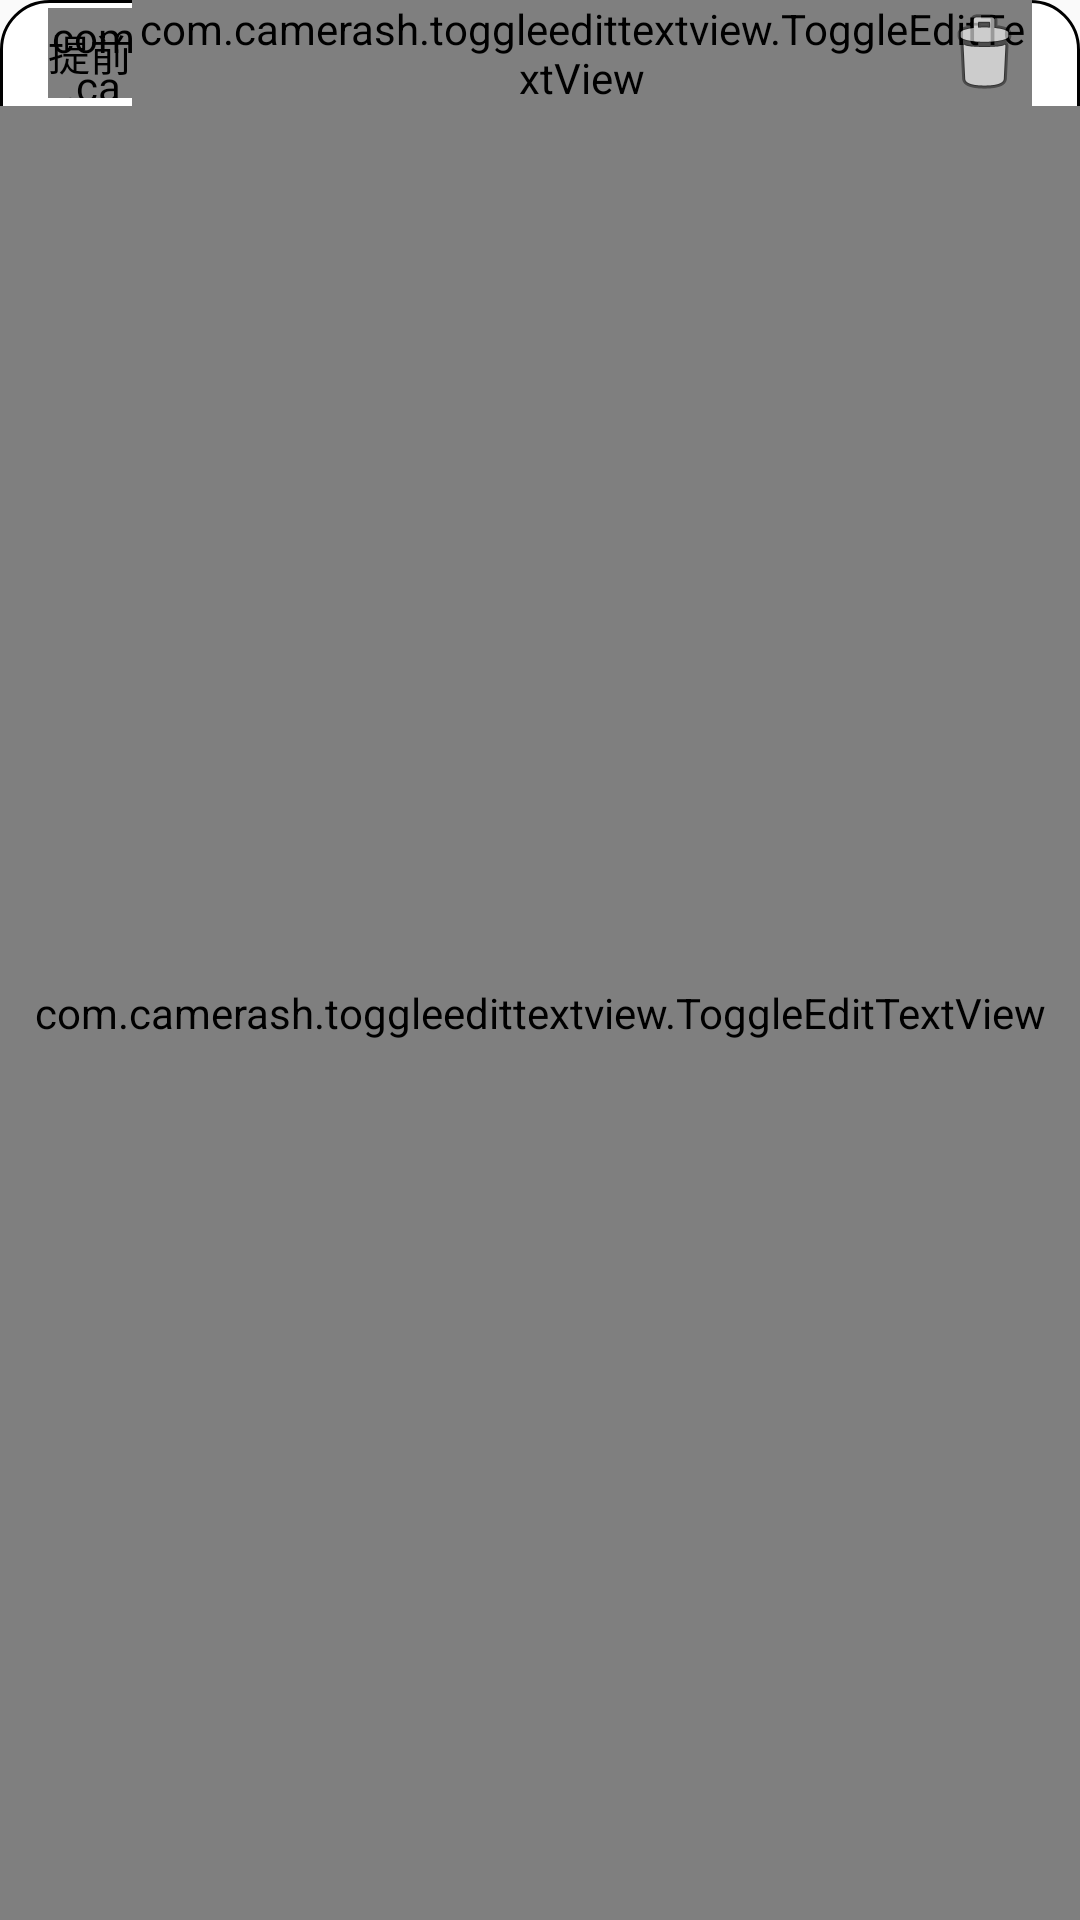

Where icons sit on this 1080x1920 app screen, as (x1, y1, x2, y2):
delete: (936, 13, 1024, 89)
